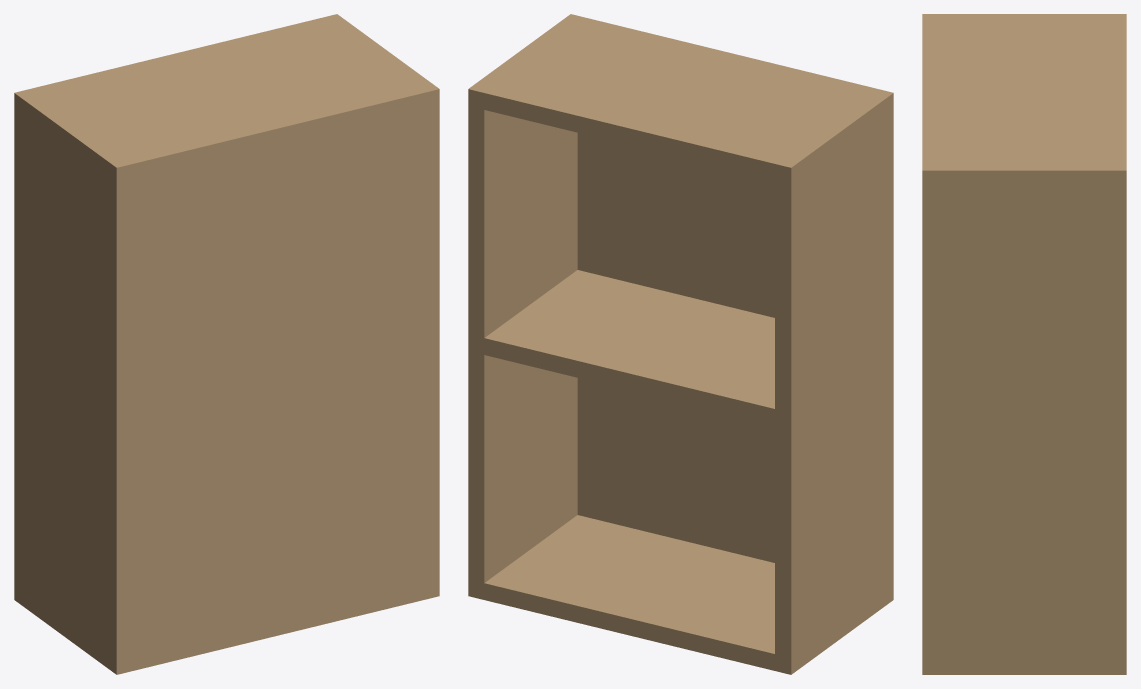
The model's file is parametric-wall-shelf-3rd-0400x0220x0600.glb.
The picture shows the model from 3 angles, left to right: view 1: azimuth 30°, elevation 25°; view 2: azimuth 150°, elevation 25°; view 3: azimuth 270°, elevation 25°; orthographic projection.
Visible parts, largest first — view 1: backboard, end:-1, top, end:1; view 2: backboard, end:-1, end:1, top, shelf, bottom; view 3: end:1, top, backboard, end:-1.
Boxes of the visible parts, x1,y1,x2,y2 form: backboard: (107,82,439,674); end:-1: (14,89,122,667); top: (31,18,413,156); end:1: (321,14,429,85); backboard: (561,14,893,606); end:-1: (775,95,884,674); end:1: (468,21,577,599); top: (484,25,867,180); shelf: (484,270,774,425); bottom: (484,515,774,670); end:1: (941,163,1126,674); top: (941,22,1126,162); backboard: (922,14,940,674); end:-1: (941,14,1126,21).
Size of the model in its own units: 0.4 by 0.6 by 0.22.
